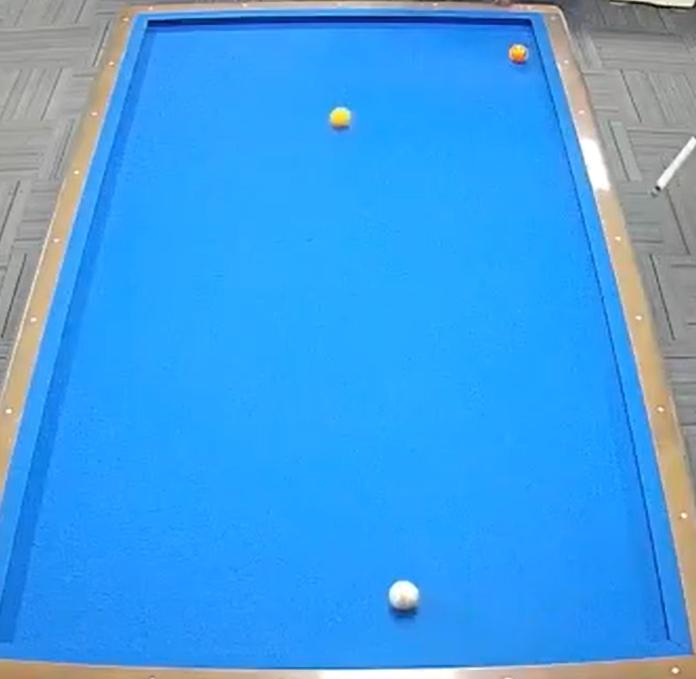orange ball: (502, 39, 534, 68)
white ball: (385, 574, 426, 619)
yellow ball: (325, 101, 357, 133)
